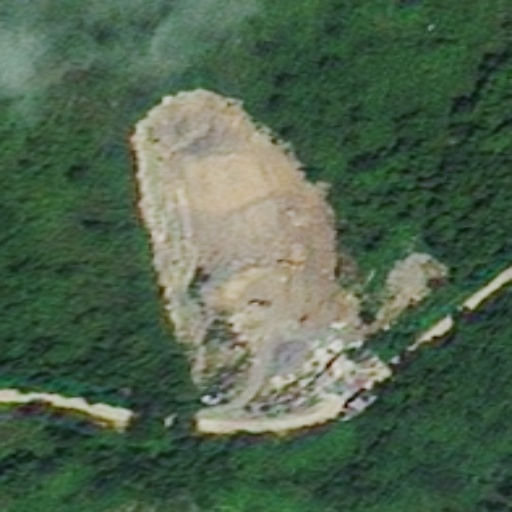landslide: (130, 89, 448, 406)
